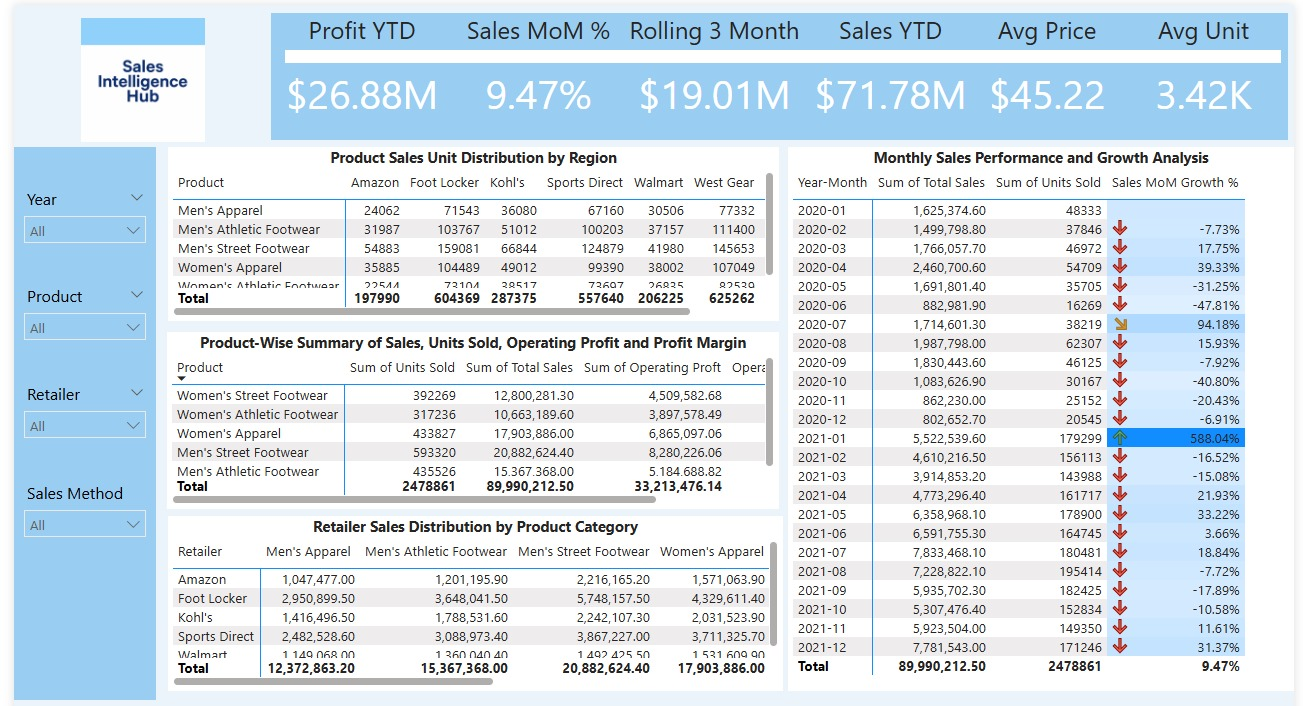

What the dashboard file says about the page in this screenshot:
{"tool":"powerbi","page":{"name":"Matrix Table","canvas":[1280,720],"ordinal":1},"visuals":[{"type":"shape","box":[257.3,8.2,1016.4,127.3],"z":0},{"type":"card","title":"Profit YTD","fields":{"Values":["Time Intelligence Measures.Profit YTD"]},"box":[257.3,8.2,181.8,127.3],"z":1000},{"type":"card","title":"Sales MoM %","fields":{"Values":["Time Intelligence Measures.Sales MoM Growth %"]},"box":[434.2,8.2,180.9,127.3],"z":2000},{"type":"shape","box":[270.9,45.5,996.4,12.7],"z":3000},{"type":"card","title":"Rolling 3 Month","fields":{"Values":["Measures (2).Rolling 3 Month Sales"]},"box":[610.2,8.2,180.9,127.3],"z":4000},{"type":"card","title":"Sales YTD","fields":{"Values":["Time Intelligence Measures.Sales YTD"]},"box":[786.2,8.2,180.9,127.3],"z":5000},{"type":"card","title":"Avg Price","fields":{"Values":["Measures (2).Average Price per Unit"]},"box":[962.2,8.2,141.8,127.3],"z":6000},{"type":"card","title":"Avg Unit","fields":{"Values":["Measures (2).Avg Units per Invoice"]},"box":[1099.1,8.2,180.9,127.3],"z":7000},{"type":"shape","box":[0,141.8,141.8,552.7],"z":8000},{"type":"slicer","fields":{"Values":["Dim_Date.Year"]},"box":[0,178.2,141.8,62.7],"z":9000},{"type":"slicer","fields":{"Values":["Dim_Product Table.Product"]},"box":[0,275.5,141.8,62.7],"z":10000},{"type":"slicer","fields":{"Values":["Dim_Retail Table.Retailer"]},"box":[0,372.7,141.8,62.7],"z":11000},{"type":"slicer","fields":{"Values":["Dim_SalesMethod Table.Sales Method"]},"box":[0,471.8,141.8,62.7],"z":12000},{"type":"image","box":[0,8.2,257.3,133.6],"z":13000},{"type":"pivotTable","title":"Product Sales Unit Distribution by Region","fields":{"Rows":["Dim_Product Table.Product"],"Columns":["Dim_Retail Table.Retailer"],"Values":["Sum(Fact_Sales Table.Units Sold)"]},"box":[153.6,141.8,611.8,174.5],"z":14000},{"type":"pivotTable","title":"Product-Wise Summary of Sales, Units Sold, Operating Profit  and Profit Margin","fields":{"Rows":["Dim_Product Table.Product"],"Values":["Sum(Fact_Sales Table.Units Sold)","Sum(Fact_Sales Table.Total Sales)","Sum(Fact_Sales Table.Operating Proft)","Measures (2).Operating Margin %"]},"box":[152.7,327.3,612.7,176.4],"z":15000},{"type":"pivotTable","title":"Retailer Sales Distribution by Product Category","fields":{"Rows":["Dim_Retail Table.Retailer"],"Columns":["Dim_Product Table.Product"],"Values":["Sum(Fact_Sales Table.Total Sales)"]},"box":[153.6,510.9,615.5,175.5],"z":16000},{"type":"pivotTable","title":"Monthly Sales Performance and Growth Analysis","fields":{"Rows":["Dim_Date.Year-Month"],"Values":["Sum(Fact_Sales Table.Total Sales)","Sum(Fact_Sales Table.Units Sold)","Time Intelligence Measures.Sales MoM Growth %"]},"box":[773.6,141.8,506.4,544.5],"z":17000}]}

Visuals, with their boxes on the page's 1280x720 design canvas (x1, y1, x2, y2). These are canvas units, not pixel positions in the 1303x706 screenshot, which may show the page scaled, cropped or inside an application window:
shape: locate(257, 8, 1274, 136)
"Profit YTD" card: locate(257, 8, 439, 136)
"Sales MoM %" card: locate(434, 8, 615, 136)
shape: locate(271, 46, 1267, 58)
"Rolling 3 Month" card: locate(610, 8, 791, 136)
"Sales YTD" card: locate(786, 8, 967, 136)
"Avg Price" card: locate(962, 8, 1104, 136)
"Avg Unit" card: locate(1099, 8, 1280, 136)
shape: locate(0, 142, 142, 694)
slicer - Dim_Date.Year: locate(0, 178, 142, 241)
slicer - Dim_Product Table.Product: locate(0, 276, 142, 338)
slicer - Dim_Retail Table.Retailer: locate(0, 373, 142, 435)
slicer - Dim_SalesMethod Table.Sales Method: locate(0, 472, 142, 534)
image: locate(0, 8, 257, 142)
"Product Sales Unit Distribution by Region" pivotTable: locate(154, 142, 765, 316)
"Product-Wise Summary of Sales, Units Sold, Operating Profit  and Profit Margin" pivotTable: locate(153, 327, 765, 504)
"Retailer Sales Distribution by Product Category" pivotTable: locate(154, 511, 769, 686)
"Monthly Sales Performance and Growth Analysis" pivotTable: locate(774, 142, 1280, 686)
